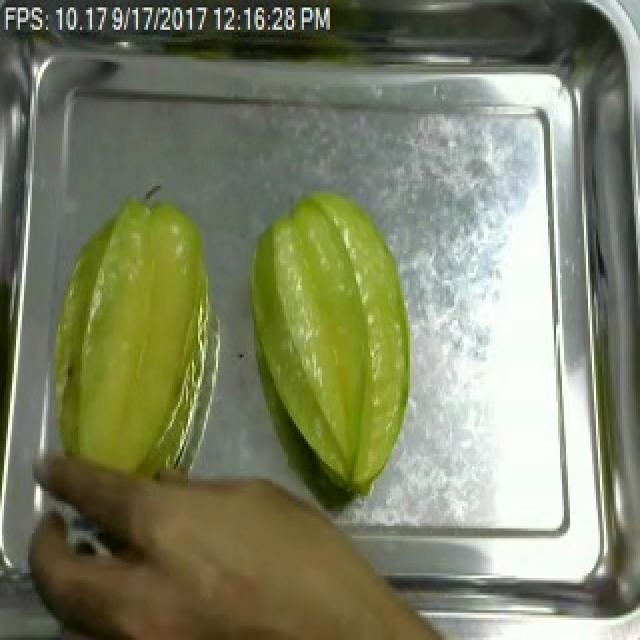fruit: (72, 446, 464, 640), (234, 181, 422, 509), (36, 178, 226, 494)
